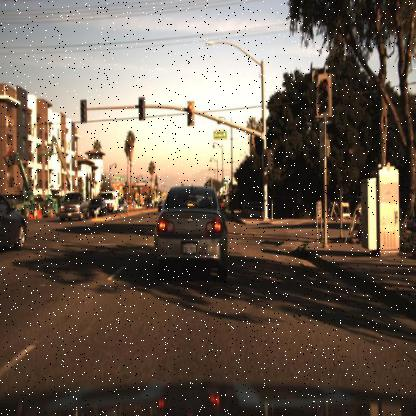car: (154, 182, 229, 282), (59, 192, 88, 222), (88, 196, 108, 218), (105, 187, 116, 217), (117, 194, 128, 212)
trafficLight: (185, 102, 195, 131)
trafficLight-Red: (319, 72, 332, 112), (136, 95, 145, 120), (264, 148, 272, 166), (266, 150, 271, 166)
truck: (102, 186, 120, 218)
